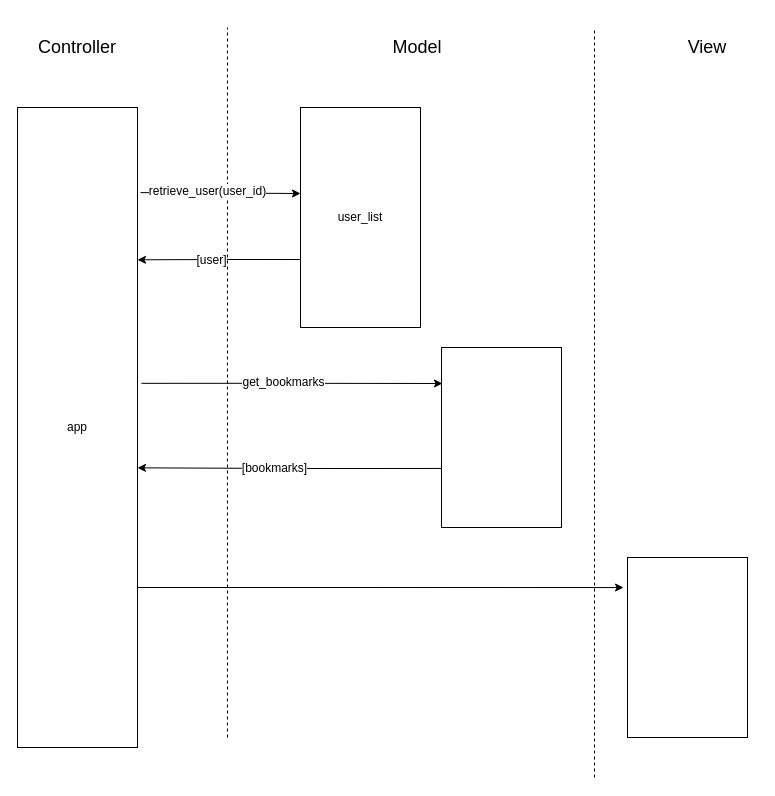
Some shapes in this 775 by 796 pixel diagram are drawn without their labels. The shapes that lost their labels are listed below. From the top down, each one's centre as x and y in pixels, then its label:
pixel 501 437: user
pixel 687 647: index
